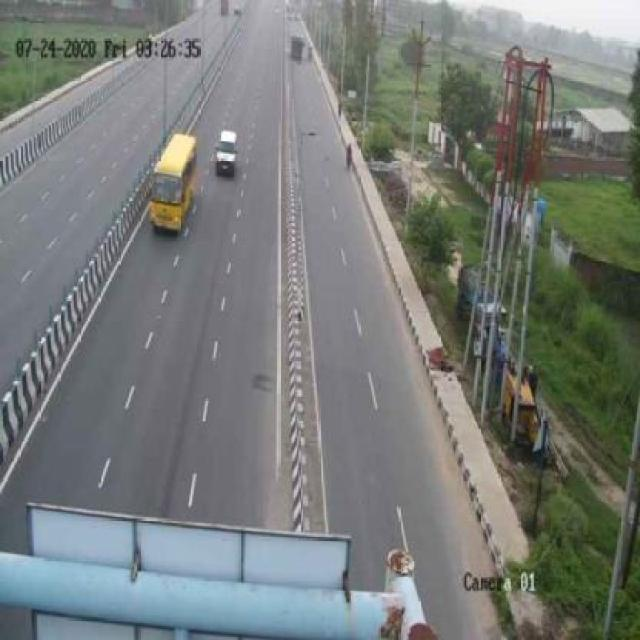car: (215, 126, 243, 179)
